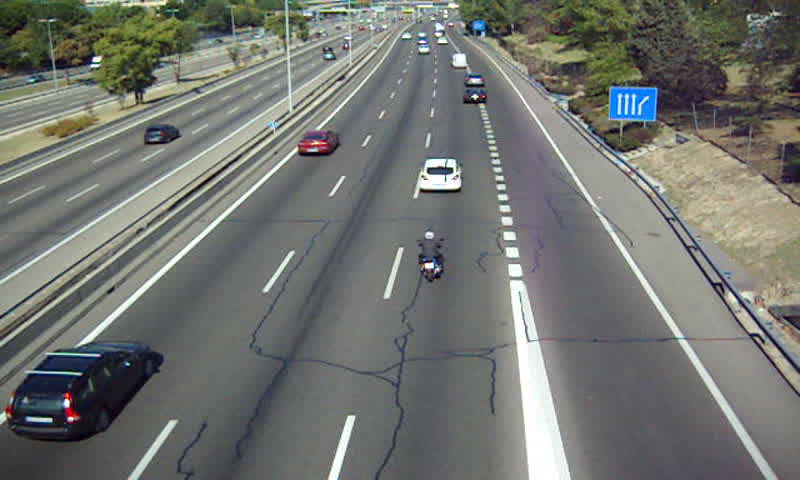car: (8, 340, 156, 440), (420, 158, 462, 192), (298, 131, 337, 157), (462, 88, 488, 103), (464, 73, 486, 88)
motorcycle: (415, 230, 445, 282)
van: (451, 52, 468, 68)
